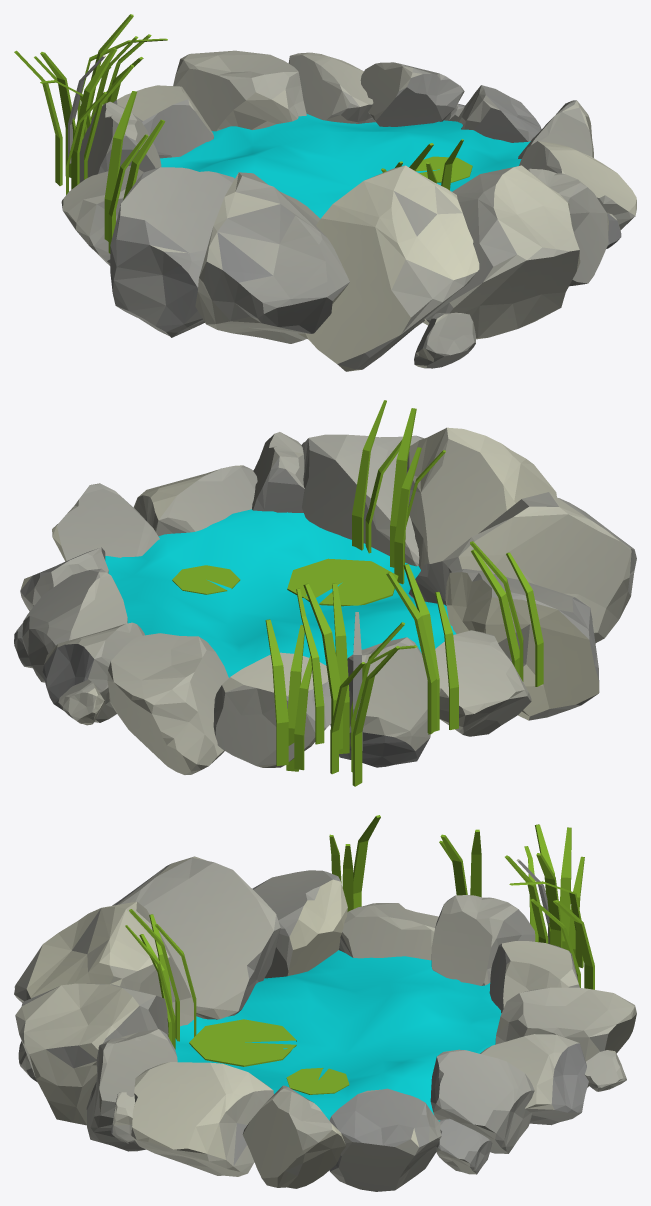
File: island7.puddle (1).fbx
3 views of the same model, one above another, from view 1: azimuth 30°, elevation 25°; view 2: azimuth 150°, elevation 25°; view 3: azimuth 270°, elevation 25° (orthographic). The views are drawn at different scales.
Visible parts, largest first — view 1: island7-puddle; view 2: island7-puddle; view 3: island7-puddle.
Boxes of the visible parts, box(x1,y1,x2,y2) form: island7-puddle: box(14, 14, 636, 371); island7-puddle: box(14, 400, 636, 786); island7-puddle: box(14, 815, 636, 1191).
Size of the model in its own units: 8.27 by 3.09 by 8.92.
Materials: 1 (1 with a texture image).
